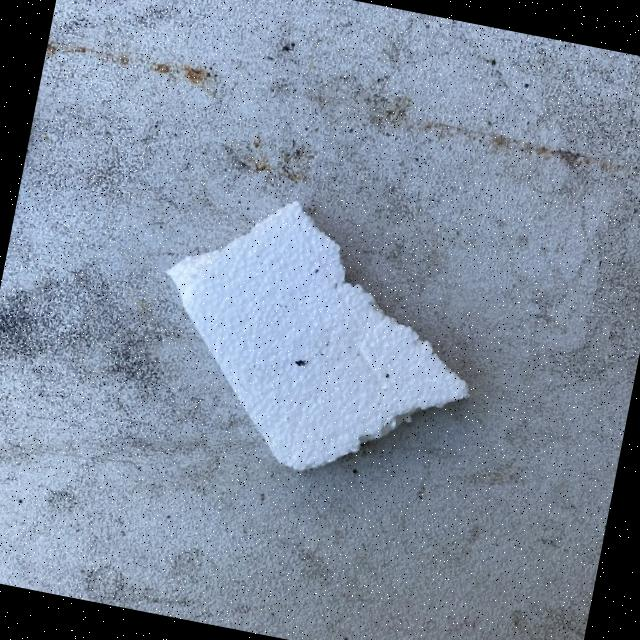styrofoam: (132, 177, 500, 500)
